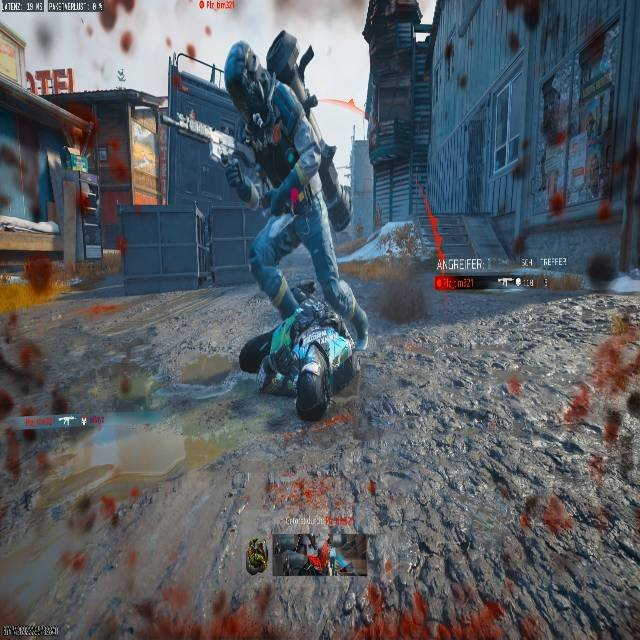player: (219, 31, 360, 428)
